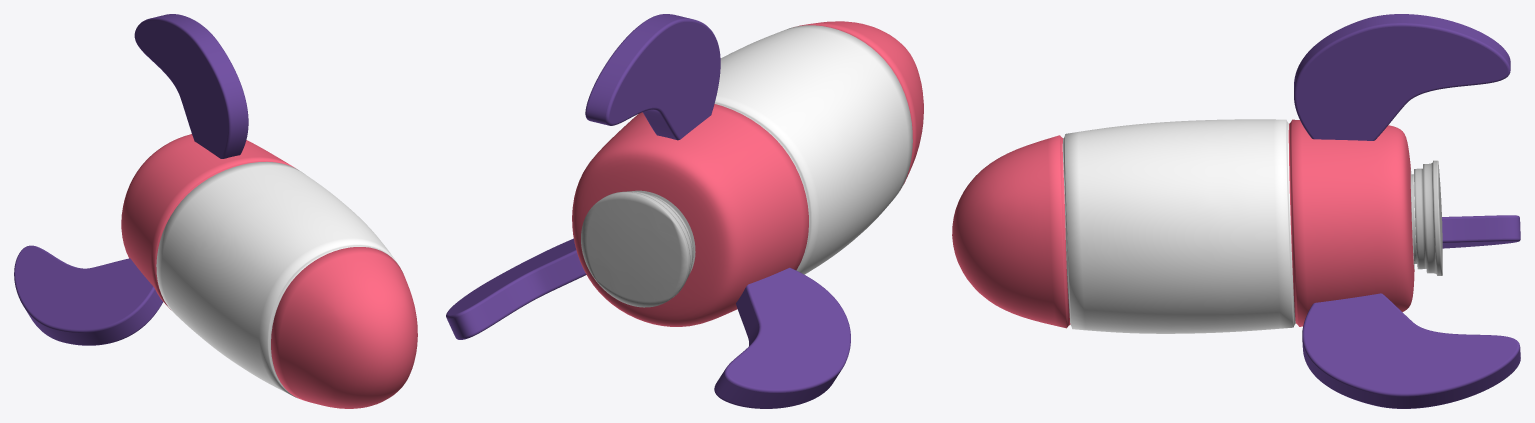
Rendered from top.gltf.
3 views of the same model, side by side, from view 1: azimuth 30°, elevation 25°; view 2: azimuth 150°, elevation 25°; view 3: azimuth 270°, elevation 25° (orthographic). The views are drawn at different scales.
Visible parts, largest first — view 1: Cube, BezierCircle, BezierCircle.001; view 2: Cube, BezierCircle, BezierCircle.001, BezierCircle.002; view 3: Cube, BezierCircle.001, BezierCircle.002, BezierCircle.
Boxes of the visible parts, box(x1,y1,x2,y2) form: Cube: box(121, 134, 417, 408); BezierCircle: box(14, 245, 162, 345); BezierCircle.001: box(134, 14, 248, 158); Cube: box(572, 21, 923, 326); BezierCircle: box(714, 267, 850, 408); BezierCircle.001: box(585, 14, 720, 140); BezierCircle.002: box(446, 238, 586, 339); Cube: box(952, 119, 1442, 333); BezierCircle.001: box(1294, 14, 1510, 140); BezierCircle.002: box(1302, 293, 1520, 408); BezierCircle: box(1442, 215, 1520, 248).
Bounding box in the file's own units: 152 × 133 × 218.
